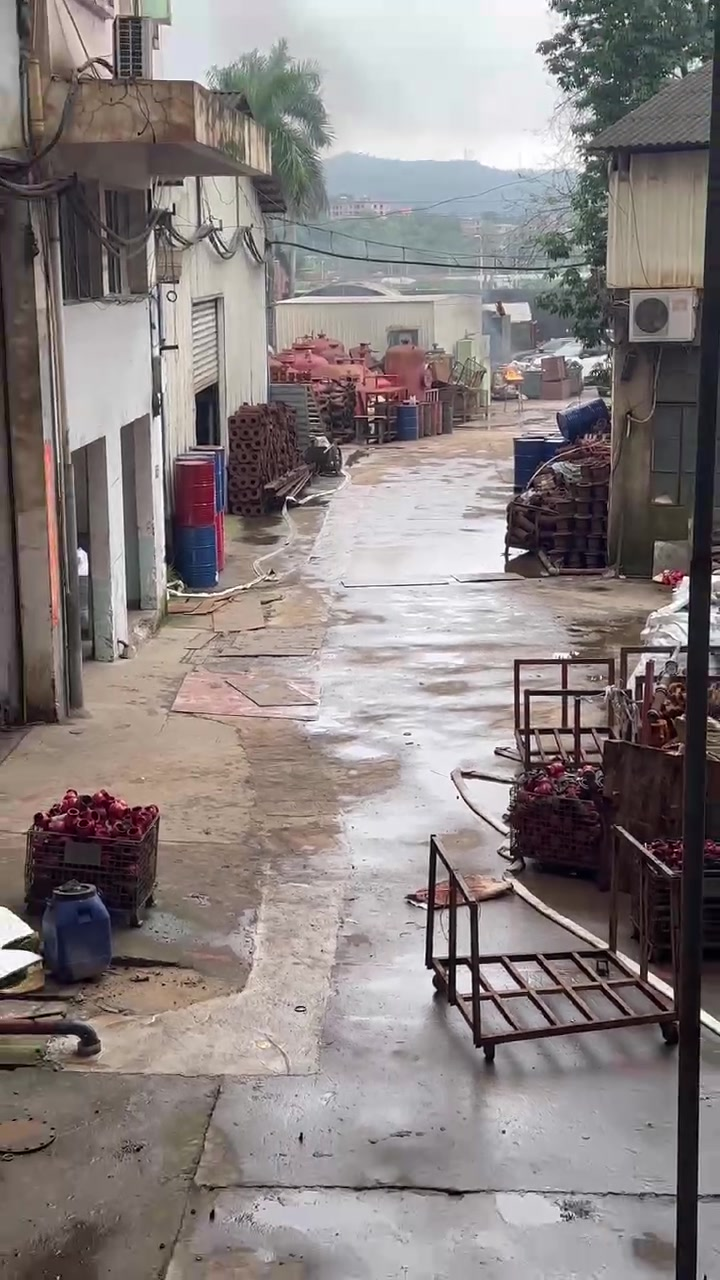fire: (504, 369, 524, 379)
